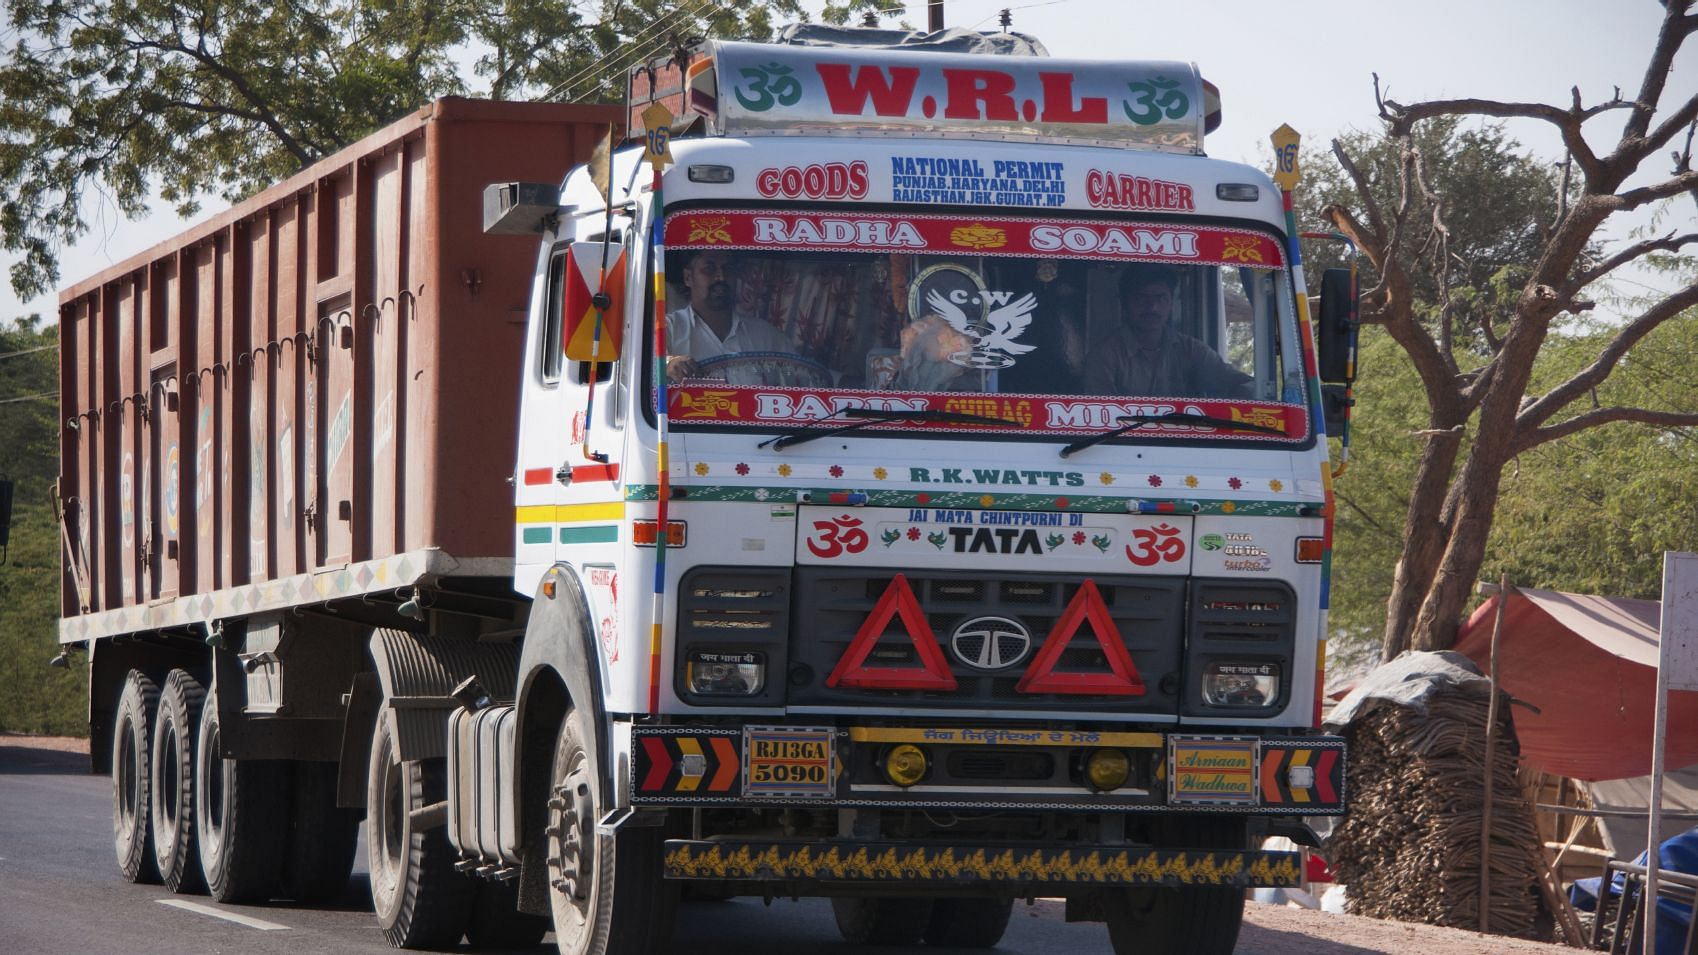truck: (91, 129, 1315, 955)
